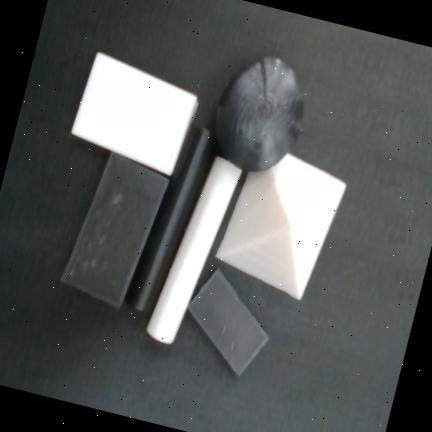Cilindro: (144, 156, 243, 344), (127, 123, 215, 313)
Esfera: (216, 57, 303, 171)
Paralelepipedo: (59, 152, 169, 311), (69, 50, 198, 177), (187, 266, 270, 377)
Piramide: (213, 151, 347, 301)
